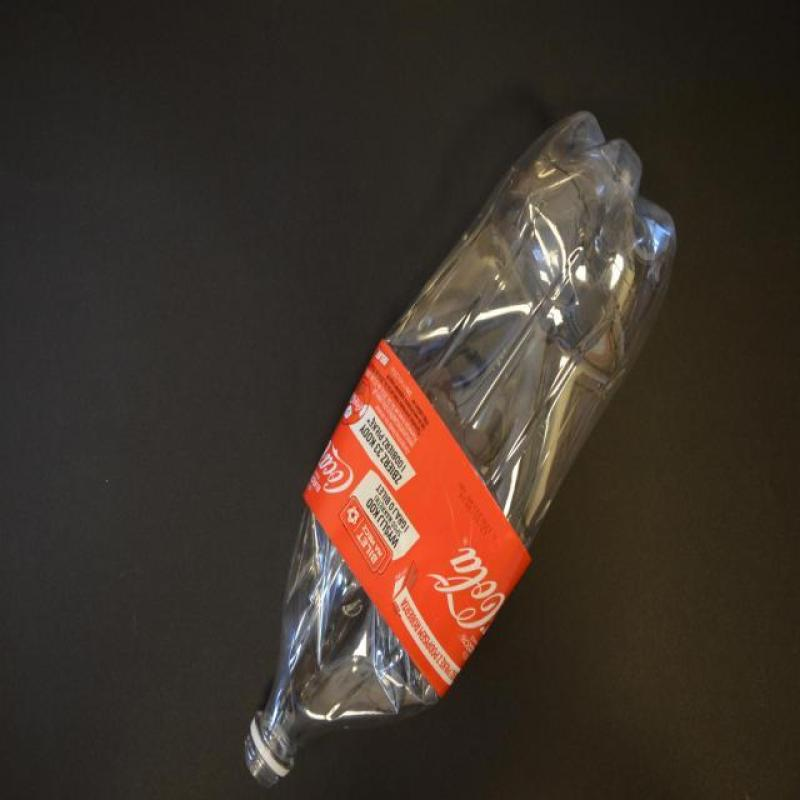botella: (244, 111, 678, 790)
